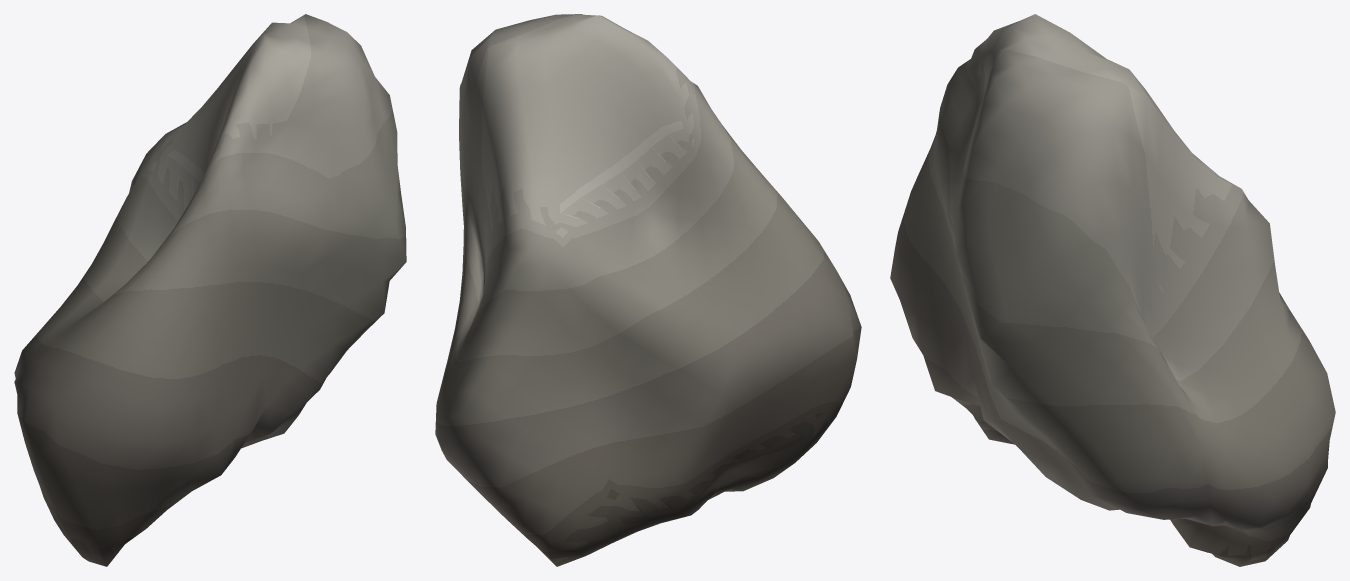
Rendered from DL_Obj_Level5_MineRock6.fbx.
3 renders of one model, left to right at view 1: azimuth 30°, elevation 25°; view 2: azimuth 150°, elevation 25°; view 3: azimuth 270°, elevation 25°, orthographic. The views are drawn at different scales.
Visible parts, largest first — view 1: Level5_MineRock06; view 2: Level5_MineRock06; view 3: Level5_MineRock06.
Boxes of the visible parts, x1,y1,x2,y2 form: Level5_MineRock06: (14,14,406,566); Level5_MineRock06: (435,14,861,566); Level5_MineRock06: (890,14,1335,566).
Bounding box in the file's own units: 209 × 262 × 181.
